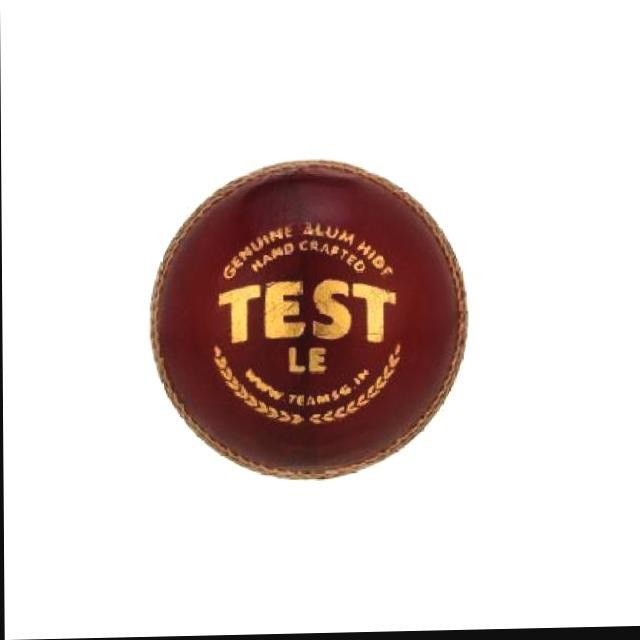-: (158, 177, 469, 470)
